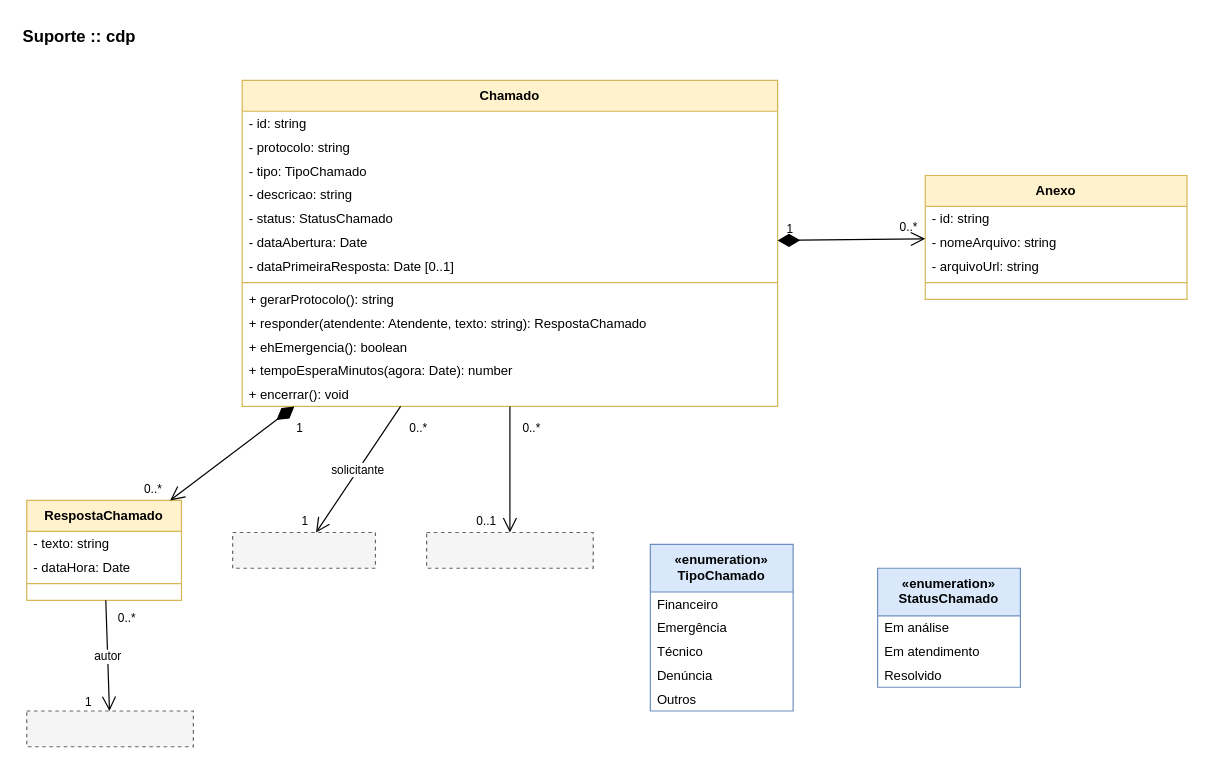
Image size: 1208x768. Some labels were removed from this diagram. Here are the shapes that lost their labels. From the top down, the centre of each, then its label:
At [303,549]: "perfis::Usuario".
At [509,549]: "servicos::Passeio".
At [109,728]: "perfis::Atendente".
